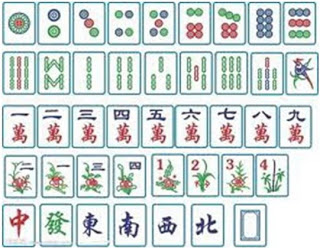1W: (4, 108, 33, 145)
1i: (288, 55, 315, 90)
1o: (6, 7, 33, 39)
2W: (39, 107, 66, 146)
2i: (75, 54, 102, 91)
2o: (42, 6, 64, 40)
3W: (72, 106, 102, 145)
3i: (148, 54, 173, 91)
3o: (76, 6, 102, 39)
4W: (108, 107, 137, 145)
4i: (113, 53, 137, 93)
4o: (112, 7, 136, 38)
5W: (144, 107, 172, 145)
5i: (182, 54, 210, 91)
5o: (146, 7, 173, 39)
6W: (177, 107, 206, 145)
6i: (218, 53, 244, 92)
6o: (184, 6, 205, 41)
7W: (211, 106, 241, 146)
7i: (253, 54, 282, 92)
7o: (217, 4, 242, 41)
8W: (247, 106, 276, 145)
8i: (40, 53, 68, 92)
8o: (253, 5, 276, 39)
9W: (281, 107, 311, 146)
9i: (4, 53, 34, 92)
9o: (287, 6, 312, 40)
East: (78, 206, 106, 241)
Green: (41, 205, 70, 243)
North: (194, 206, 222, 244)
Red: (5, 205, 33, 241)
South: (116, 206, 144, 243)
West: (156, 206, 182, 243)
White: (235, 205, 264, 244)
